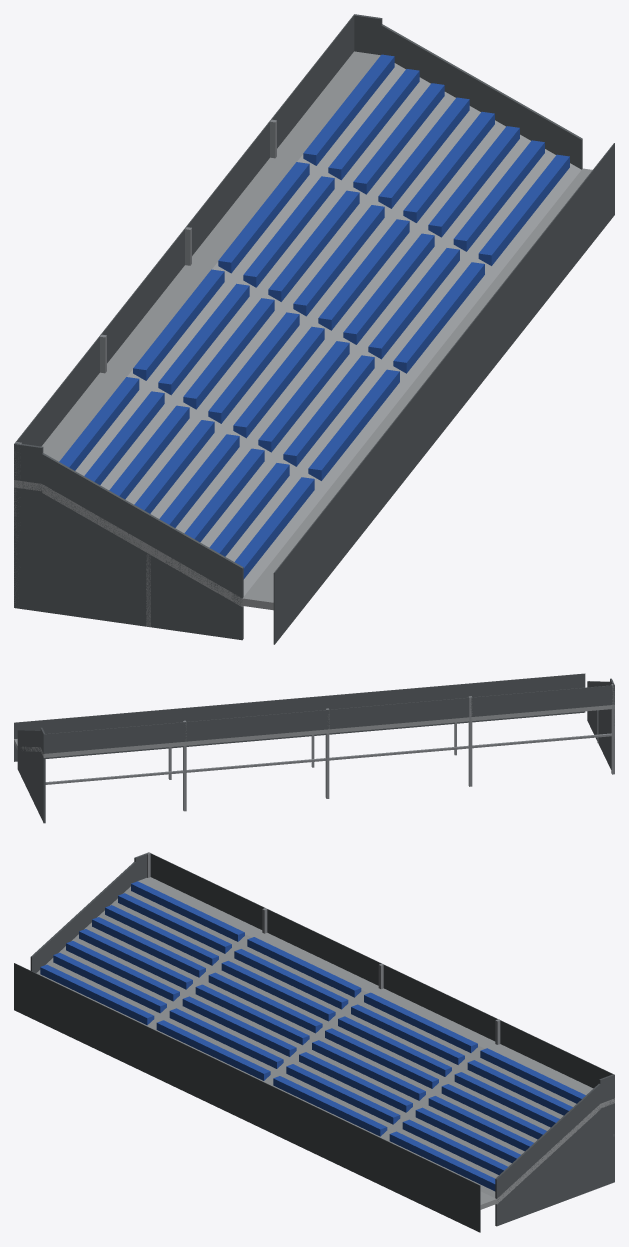
The model's file is mza_stand_ascari_tre.glb.
The picture shows the model from 3 angles, top to bottom: view 1: azimuth 30°, elevation 25°; view 2: azimuth 150°, elevation 25°; view 3: azimuth 270°, elevation 25°; orthographic projection. The views are drawn at different scales.
Visible parts, largest first — view 1: monza-ascari-tre; view 2: monza-ascari-tre; view 3: monza-ascari-tre.
Boxes of the visible parts, box(x1,y1,x2,y2) form: monza-ascari-tre: box(14, 14, 614, 644); monza-ascari-tre: box(14, 673, 614, 823); monza-ascari-tre: box(14, 852, 614, 1232).
Size of the model in its own units: 29.86 by 5.48 by 27.78.
